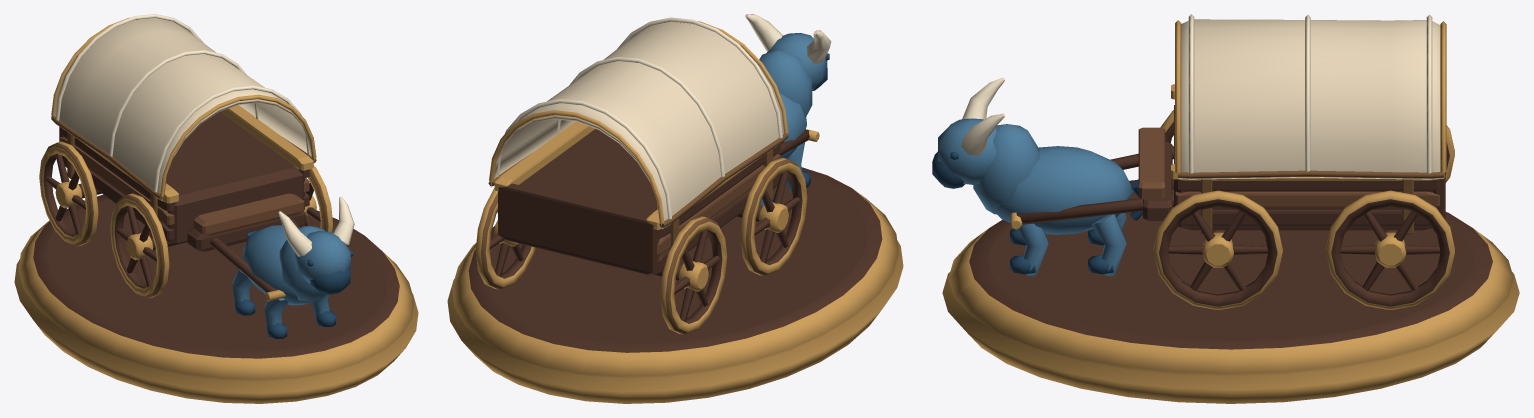
File: pawn_caravan.glb
3 views of the same model, side by side, from view 1: azimuth 30°, elevation 25°; view 2: azimuth 150°, elevation 25°; view 3: azimuth 270°, elevation 25° (orthographic). The views are drawn at different scales.
Parts seen in each view (by area): view 1: pawn_caravan; view 2: pawn_caravan; view 3: pawn_caravan.
Part boxes in pixels (left/top/right/bottom): pawn_caravan: left=14, top=14, right=418, bottom=403; pawn_caravan: left=447, top=14, right=903, bottom=403; pawn_caravan: left=932, top=14, right=1519, bottom=403.
Bounding box in the file's own units: 0.7873 × 0.5588 × 1.01.
